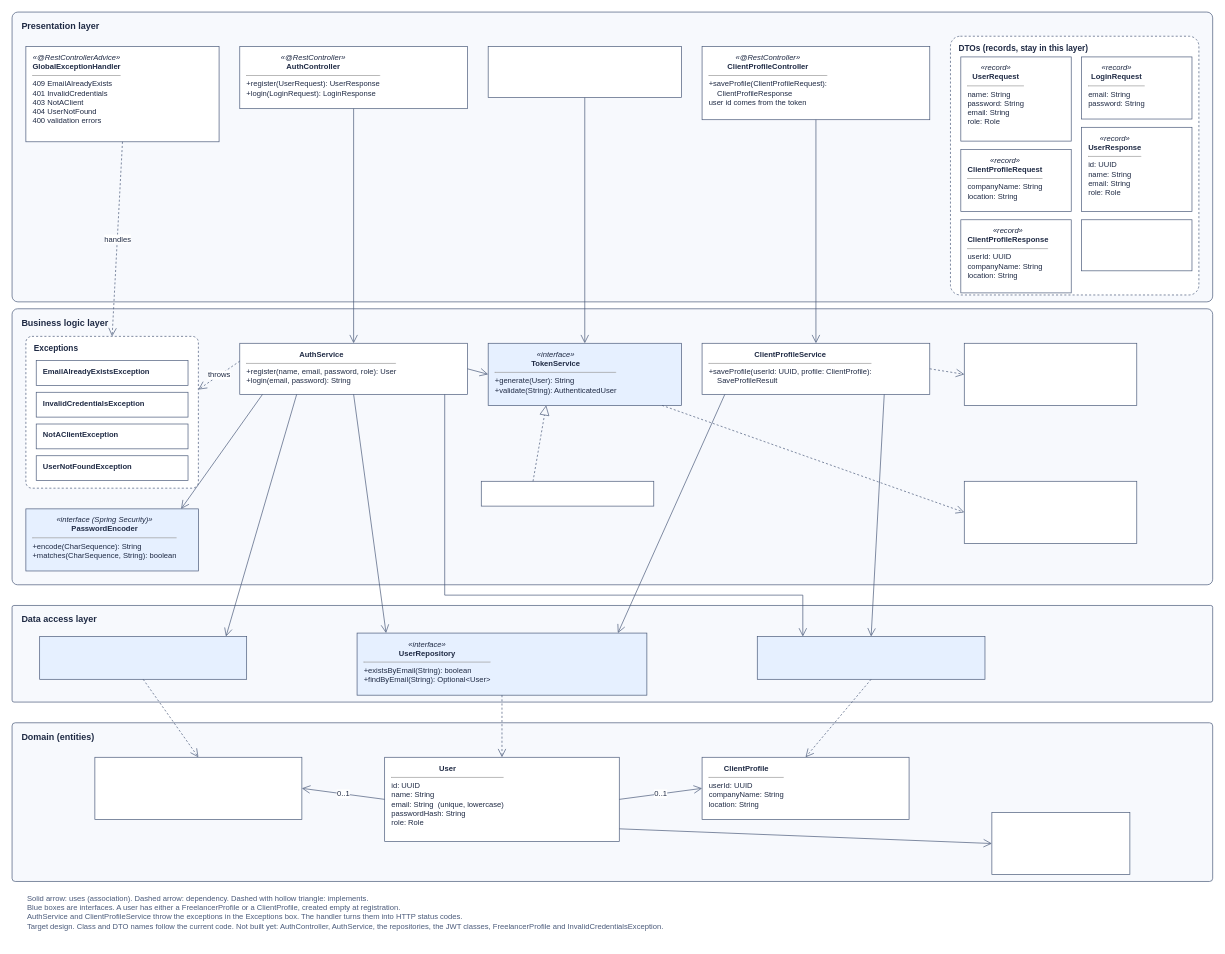
The diagram is 1225 pixels wide and 954 high, and some of its shapes have lost their labels. The shapes that lost their labels are listed below. From the top down, each one's centre as x and y in pixels, then its label:
At point 584,72: "«checks every request» JwtAuthFilter +doFilter(request, response, chain)".
At point 1136,245: "«record» LoginResponse token: String".
At point 1050,374: "«record» SaveProfileResult profile: ClientProfile created: boolean".
At point 567,493: "JwtTokenService".
At point 1050,512: "«record» AuthenticatedUser userId: UUID role: Role".
At point 143,657: "«interface» FreelancerProfileRepository".
At point 871,657: "«interface» ClientProfileRepository".
At point 198,788: "FreelancerProfile userId: UUID postcode: String motivationText: String".
At point 1060,843: "«enumeration» Role Freelancer Client".
